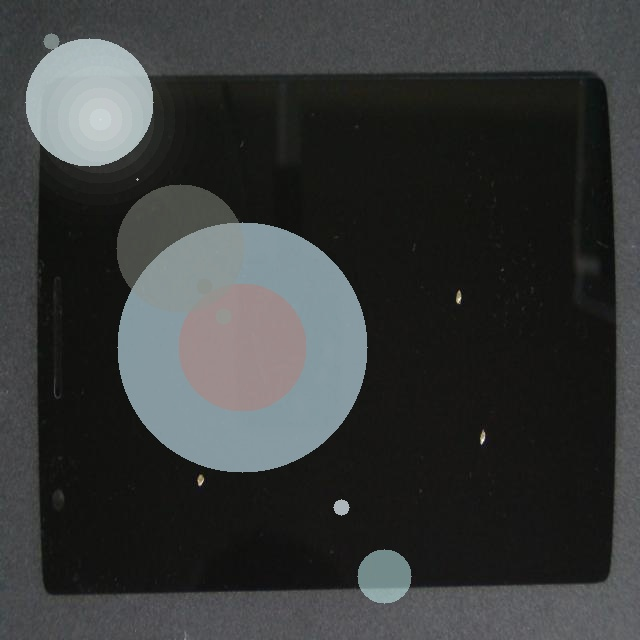stain: (259, 241, 640, 640), (253, 193, 640, 443), (124, 270, 312, 640)
